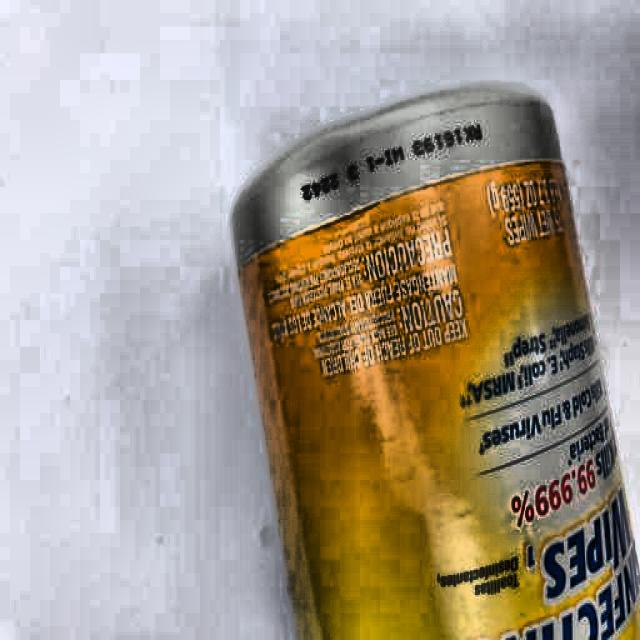plastic: (229, 83, 640, 640)
